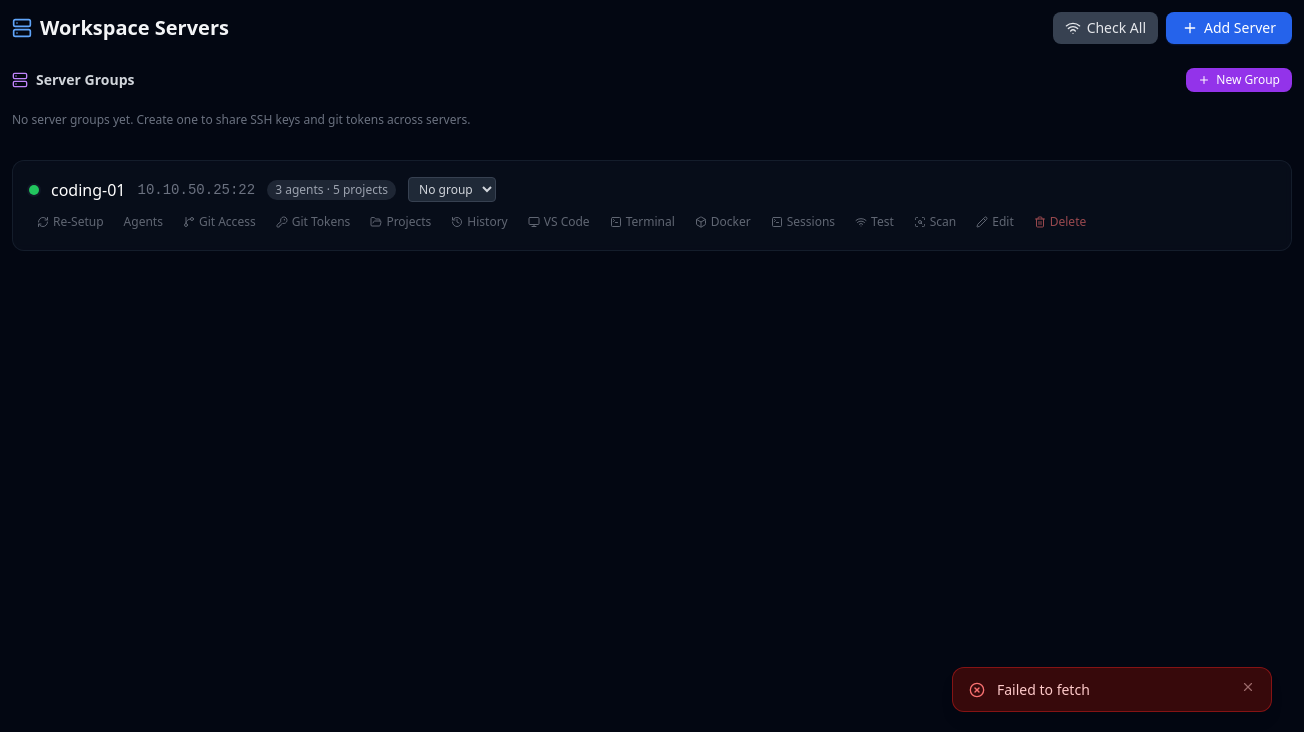
it: WorkspaceServers › clicking Test shows error toast on failure
Expected: the text "coding-01" is shown, [51,178,126,202]
Click the button "Test".
click(874, 222)  # box [847,210,902,234]
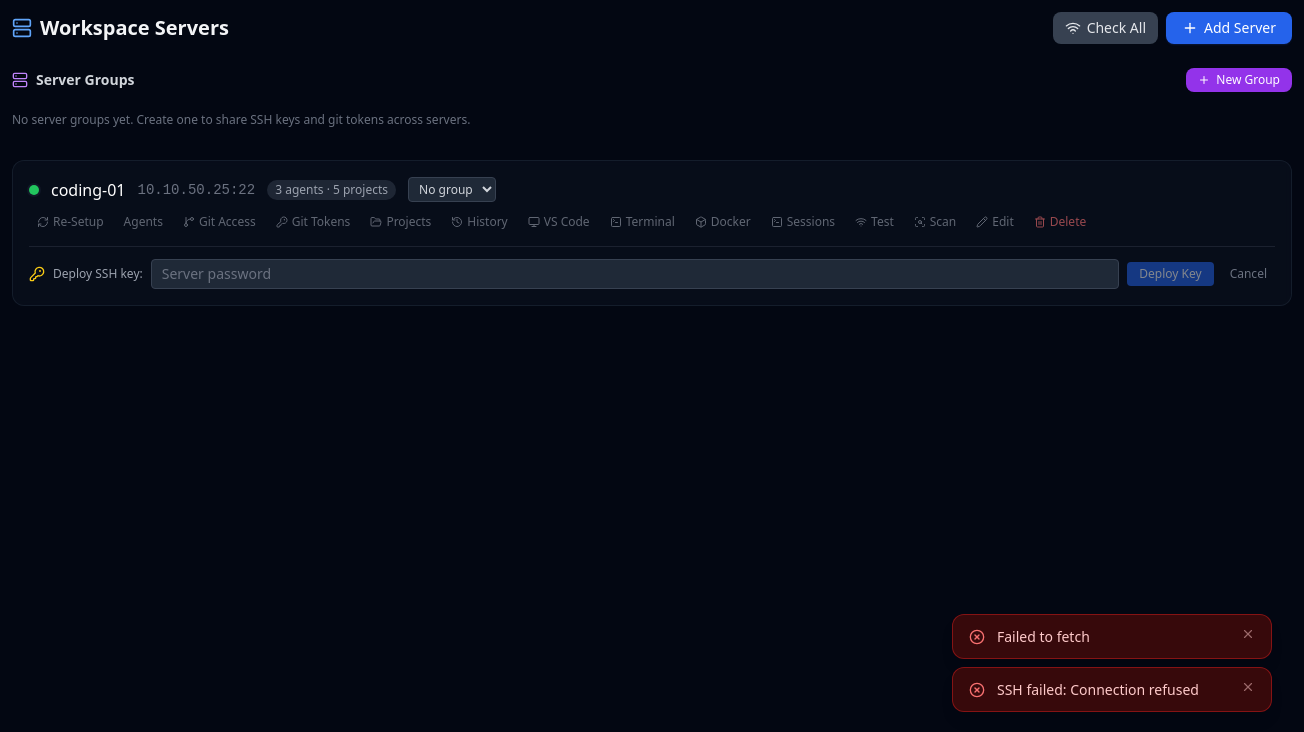
Now the text "SSH failed: Connection refused" is shown, box [997,680,1229,699]
